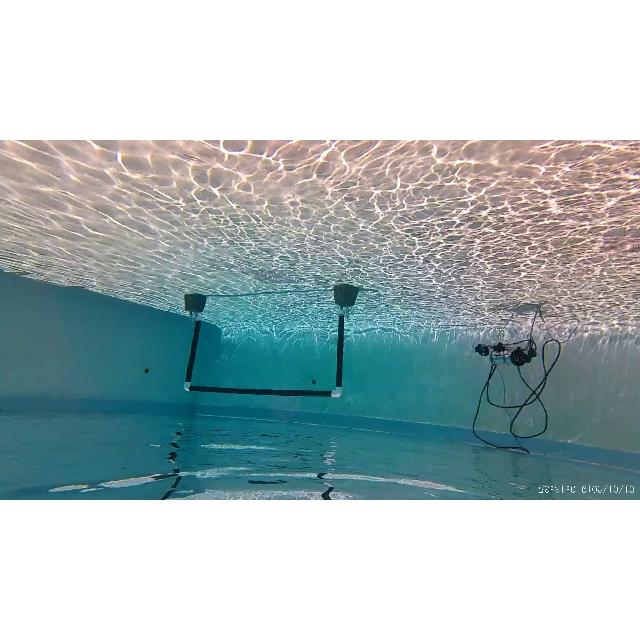prequal gate: (183, 312, 344, 398)
prequal gate leg l: (331, 310, 347, 398)
prequal gate leg r: (184, 313, 204, 397)
